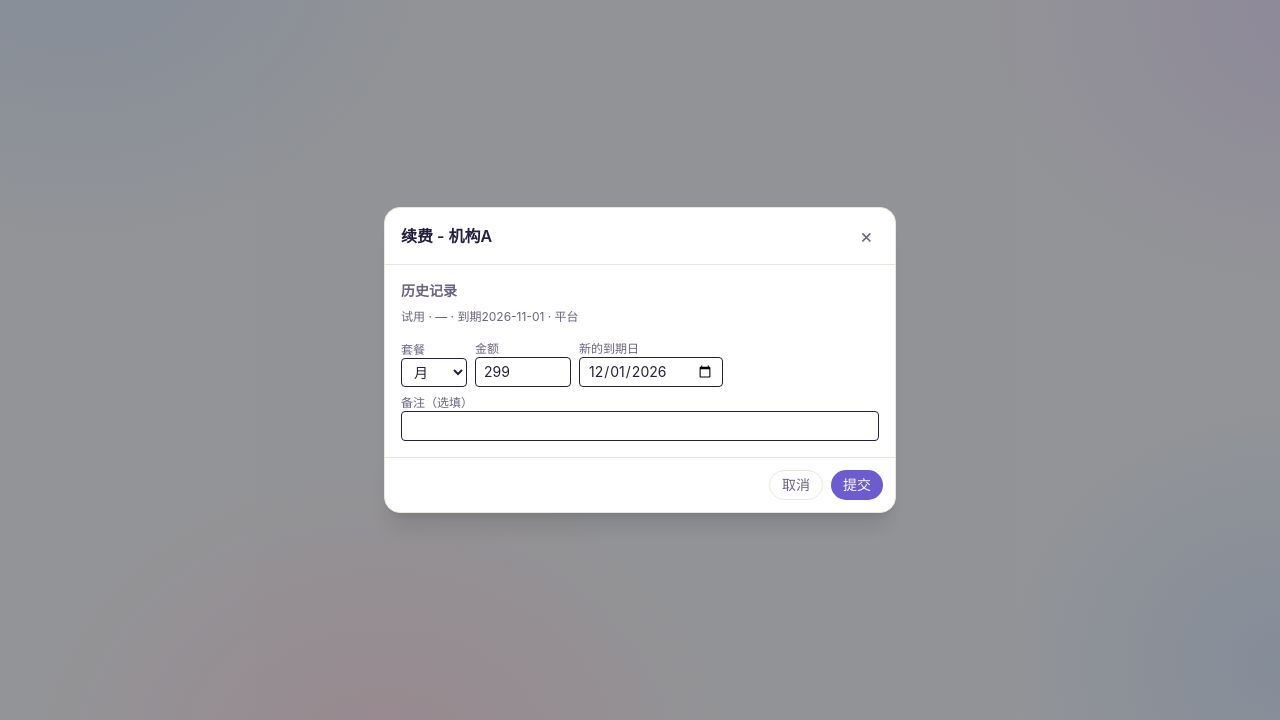
Test: RenewalModal › shows an error and does not close when the submission fails
This screenshot has width=1280, height=720.
Expected: the text "平台" is shown, [555, 309, 579, 324]
Click the button "提交": point(857, 485) [831, 470, 883, 500]
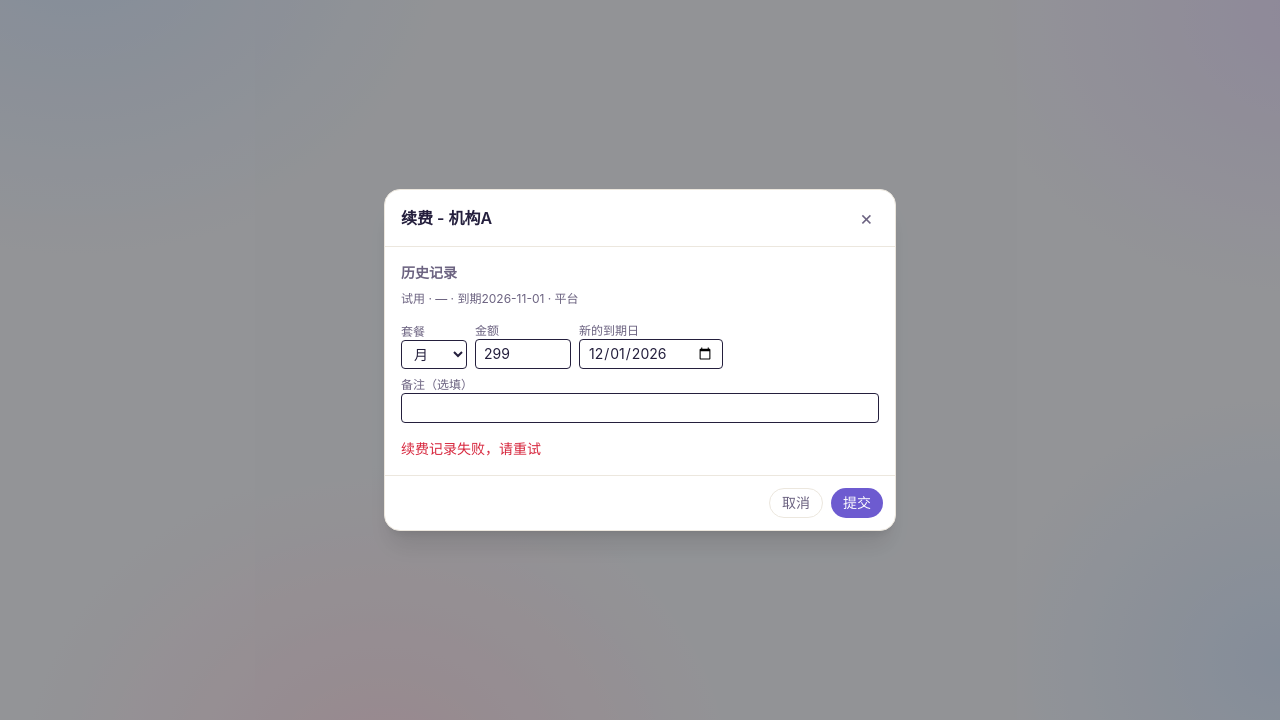
Expected: the text "续费记录失败，请重试" is shown, [401, 440, 541, 457]
